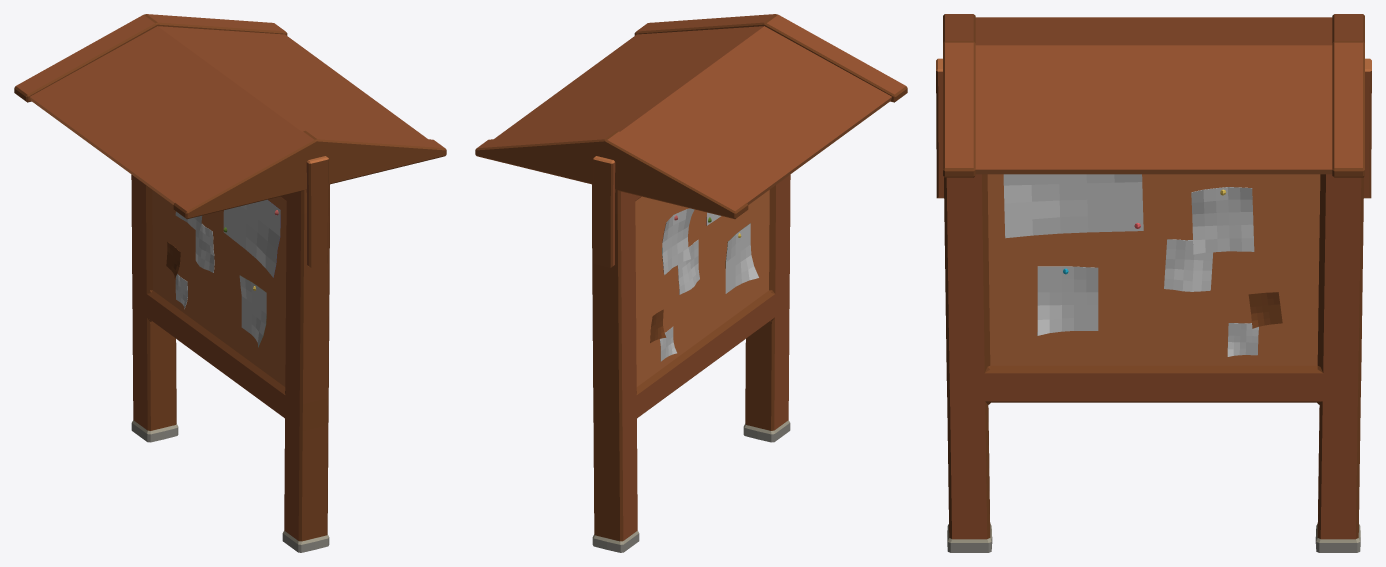
Rendered from 3D_info_panel.fbx.
3 views of the same model, side by side, from view 1: azimuth 30°, elevation 25°; view 2: azimuth 150°, elevation 25°; view 3: azimuth 270°, elevation 25° (orthographic). The views are drawn at different scales.
Parts seen in each view (by area): view 1: Stop Top.006; view 2: Stop Top.006; view 3: Stop Top.006.
Part boxes in pixels (box(x1,y1,x2,y2)): Stop Top.006: box(14, 14, 446, 552); Stop Top.006: box(475, 14, 907, 552); Stop Top.006: box(936, 14, 1371, 552).
Size of the model in its own units: 1.8 by 2.7 by 2.13.
